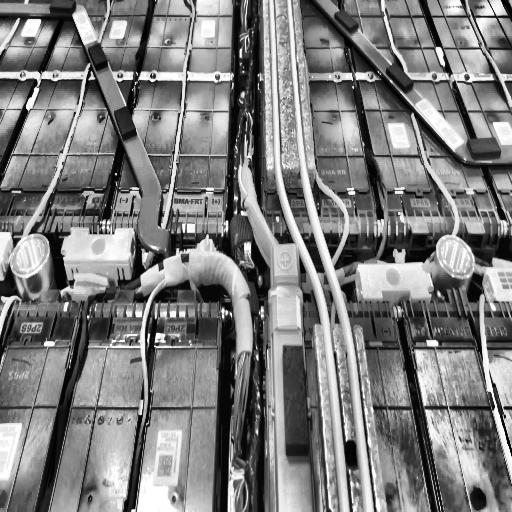busbar: (0, 0, 174, 261), (315, 0, 512, 166), (268, 240, 317, 512)
high_volt_cable: (270, 0, 376, 512), (327, 0, 490, 310), (137, 231, 262, 494), (1, 0, 115, 268), (143, 0, 201, 262), (123, 287, 171, 512)
